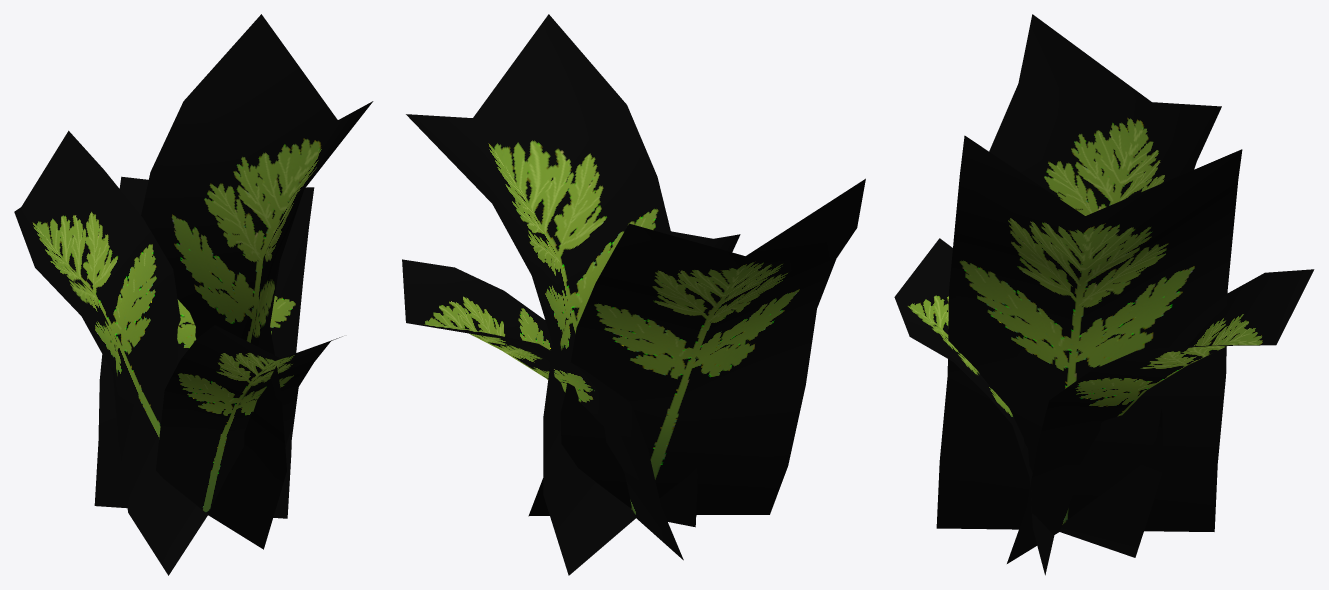
The picture shows the model from 3 angles, left to right: view 1: azimuth 30°, elevation 25°; view 2: azimuth 150°, elevation 25°; view 3: azimuth 270°, elevation 25°; orthographic projection. The views are drawn at different scales.
Parts seen in each view (by area): view 1: 萝卜01; view 2: 萝卜01; view 3: 萝卜01.
Part boxes in pixels (x1,y1,x2,y2): 萝卜01: [14, 14, 373, 575]; 萝卜01: [402, 14, 865, 575]; 萝卜01: [894, 14, 1314, 575].
Bounding box in the file's own units: 25.53 × 28 × 22.42.
1 material, 1 textured.
